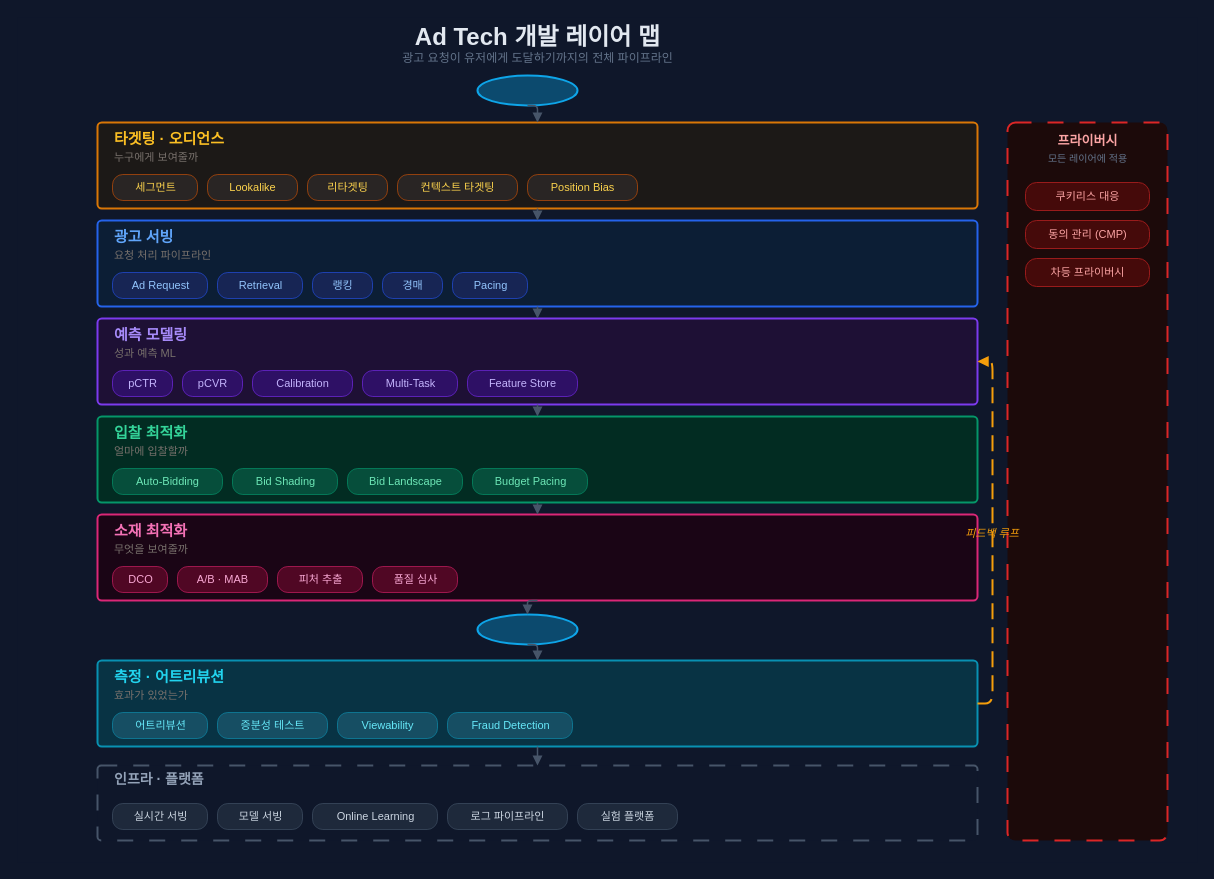
The diagram is 1214 pixels wide and 879 high, and some of its shapes have lost their labels. Here are the shapes that lost their labels. From the top down, the centre of each, then its label:
At (x=527, y=90): "유저 방문".
At (x=527, y=629): "광고 노출".
